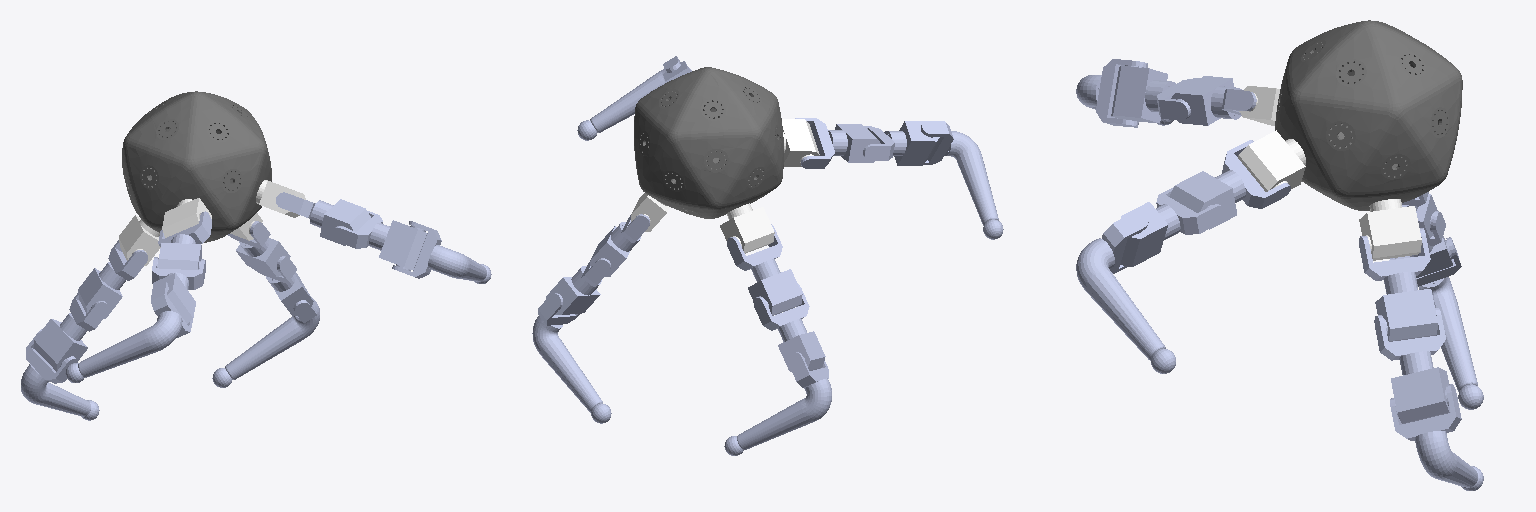
URDF robot description (mod_test):
<?xml version="1.0" encoding="utf-8"?>
<robot
  name="mod_test">
  <link
    name="base_link">
    <inertial>
      <origin
        xyz="-1.5226495220944E-06 1.5812928362389E-07 -5.05247252856584E-07"
        rpy="0 0 0" />
      <mass
        value="0.422806992949252" />
      <inertia
        ixx="0.00237499139253511"
        ixy="1.5717831530364E-08"
        ixz="1.49286265366169E-08"
        iyy="0.00237502154661776"
        iyz="-2.02154172619351E-08"
        izz="0.00237502595466009" />
    </inertial>
    <visual>
      <origin
        xyz="0 0 0"
        rpy="0 0 0" />
      <geometry>
        <mesh
          filename="package://meshes/base_link.STL" />
      </geometry>
      <material
        name="">
        <color
          rgba="0.498039215686275 0.498039215686275 0.498039215686275 1" />
      </material>
    </visual>
    <collision>
      <origin
        xyz="0 0 0"
        rpy="0 0 0" />
      <geometry>
        <mesh
          filename="package://meshes/base_link.STL" />
      </geometry>
    </collision>
  </link>
  <link
   name="160">
   <inertial>
      <origin
        xyz="0 0 0.028508"
        rpy="0 0 0" />
      <mass
        value="0.076173" />
      <inertia
        ixx="3.054E-05"
        ixy="0.000000"
        ixz="0.000000"
        iyy="2.1077E-05"
        iyz="0.000000"
        izz="2.1165E-05" />
    </inertial>
    <visual>
      <origin
        xyz="0 0 0"
        rpy="0 0 0" />
      <geometry>
        <mesh
          filename="package://meshes/1.STL" />
      </geometry>
      <material
        name="">
        <color
          rgba="1 1 1 1" />
      </material>
    </visual>
    <collision>
      <origin
        xyz="0 0 0"
        rpy="0 0 0" />
      <geometry>
        <mesh
          filename="package://meshes/1.STL" />
      </geometry>
    </collision>
  </link>
  <joint
    name="body_160"
    type="fixed">
    <origin
        xyz="0.051623 0.016773 -0.071046"
        rpy="3.141593 -0.652404 0.314159" />
    <parent
      link="base_link" />
    <child
      link="160" />
    <axis
      xyz="0 0 0" />
  </joint>
  <link
    name="161">
    <inertial>
      <origin
        xyz="0.060018 -1.4108E-06 1.4108E-06"
        rpy="0 0 0" />
    <mass
        value="0.10689" />
      <inertia
        ixx="3.2684e-05"
        ixy="-2.5662e-09"
        ixz="2.5662e-09"
        iyy="9.3595e-05"
        iyz="-2.1275e-13"
        izz="7.512e-05" />
    </inertial>
    <visual>
      <origin
        xyz="0 0 0"
        rpy="0 0 0" />
      <geometry>
        <mesh
          filename="package://meshes/module0.STL" />
      </geometry>
      <material
        name="">
        <color
          rgba="0.79216 0.81961 0.93333 1" />
      </material>
    </visual>
    <collision>
      <origin
        xyz="0 0 0"
        rpy="0 0 0" />
      <geometry>
        <mesh
          filename="package://meshes/module0.STL" />
      </geometry>
    </collision>
  </link>
  <joint
    name="160_161"
    type="revolute">
    <origin
      xyz="0 0 0.04"
      rpy="-1.558 -1.5708 -0.012835" />
    <parent
      link="160" />
    <child
      link="161" />
    <axis
      xyz="0 0 1" />
    <limit
      lower="-6.28"
      upper="6.28"
      effort="10"
      velocity="100" />
  </joint>
  <link
    name="162">
    <inertial>
      <origin
        xyz="0.060018 -1.4108E-06 1.4108E-06"
        rpy="0 0 0" />
    <mass
        value="0.10689" />
      <inertia
        ixx="3.2684e-05"
        ixy="-2.5662e-09"
        ixz="2.5662e-09"
        iyy="9.1229e-05"
        iyz="4.0975e-06"
        izz="7.7485e-05" />
    </inertial>
    <visual>
      <origin
        xyz="0 0 0"
        rpy="0 0 0" />
      <geometry>
        <mesh
          filename="package://meshes/module1.STL" />
      </geometry>
      <material
        name="">
        <color
          rgba="0.79216 0.81961 0.93333 1" />
      </material>
    </visual>
    <collision>
      <origin
        xyz="0 0 0"
        rpy="0 0 0" />
      <geometry>
        <mesh
          filename="package://meshes/module1.STL" />
      </geometry>
    </collision>
  </link>
  <joint
    name="161_162"
    type="revolute">
    <origin
      xyz="0.0816 0 0"
      rpy="0.000000 0 0" />
    <parent
      link="161" />
    <child
      link="162" />
    <axis
      xyz="0 0 1" />
    <limit
      lower="-6.28"
      upper="6.28"
      effort="10"
      velocity="100" />
  </joint>
  <link
    name="163">
    <inertial>
      <origin
        xyz="0.051733 -0.042281 -1.3878E-17"
        rpy="0 0 0" />
    <mass
        value="0.12059" />
      <inertia
        ixx="0.00025425"
        ixy="4.8319E-05"
        ixz="0"
        iyy="5.0194E-05"
        iyz="-3.3141E-21"
        izz="0.00027482" />
    </inertial>
    <visual>
      <origin
        xyz="0 0 0"
        rpy="0 0 0" />
      <geometry>
        <mesh
          filename="package://meshes/leg.STL" />
      </geometry>
      <material
        name="">
        <color
          rgba="0.79216 0.81961 0.93333 1" />
      </material>
    </visual>
    <collision>
      <origin
        xyz="0 0 0"
        rpy="0 0 0" />
      <geometry>
        <mesh
          filename="package://meshes/leg.STL" />
      </geometry>
    </collision>
  </link>
  <joint
    name="162_163"
    type="revolute">
    <origin
      xyz="0.0816 0 0"
      rpy="0.523599 0 0" />
    <parent
      link="162" />
    <child
      link="163" />
    <axis
      xyz="0 0 1" />
    <limit
      lower="-6.28"
      upper="6.28"
      effort="10"
      velocity="100" />
  </joint>
  <link
   name="100">
   <inertial>
      <origin
        xyz="0 0 0.028508"
        rpy="0 0 0" />
      <mass
        value="0.076173" />
      <inertia
        ixx="3.054E-05"
        ixy="-0.000000"
        ixz="-0.000000"
        iyy="2.1077E-05"
        iyz="-0.000000"
        izz="2.1165E-05" />
    </inertial>
    <visual>
      <origin
        xyz="0 0 0"
        rpy="0 0 0" />
      <geometry>
        <mesh
          filename="package://meshes/1.STL" />
      </geometry>
      <material
        name="">
        <color
          rgba="1 1 1 1" />
      </material>
    </visual>
    <collision>
      <origin
        xyz="0 0 0"
        rpy="0 0 0" />
      <geometry>
        <mesh
          filename="package://meshes/1.STL" />
      </geometry>
    </collision>
  </link>
  <joint
    name="body_100"
    type="fixed">
    <origin
        xyz="0.051620 -0.071049 -0.016769"
        rpy="-1.935587 1.017234 -2.827371" />
    <parent
      link="base_link" />
    <child
      link="100" />
    <axis
      xyz="0 0 0" />
  </joint>
  <link
    name="101">
    <inertial>
      <origin
        xyz="0.060018 -1.4108E-06 1.4108E-06"
        rpy="0 0 0" />
    <mass
        value="0.10689" />
      <inertia
        ixx="3.2684e-05"
        ixy="-2.5662e-09"
        ixz="2.5662e-09"
        iyy="9.1229e-05"
        iyz="4.0975e-06"
        izz="7.7485e-05" />
    </inertial>
    <visual>
      <origin
        xyz="0 0 0"
        rpy="0 0 0" />
      <geometry>
        <mesh
          filename="package://meshes/module1.STL" />
      </geometry>
      <material
        name="">
        <color
          rgba="0.79216 0.81961 0.93333 1" />
      </material>
    </visual>
    <collision>
      <origin
        xyz="0 0 0"
        rpy="0 0 0" />
      <geometry>
        <mesh
          filename="package://meshes/module1.STL" />
      </geometry>
    </collision>
  </link>
  <joint
    name="100_101"
    type="revolute">
    <origin
      xyz="0 0 0.04"
      rpy="-1.558 -1.5708 -0.012835" />
    <parent
      link="100" />
    <child
      link="101" />
    <axis
      xyz="0 0 1" />
    <limit
      lower="-6.28"
      upper="6.28"
      effort="10"
      velocity="100" />
  </joint>
  <link
    name="102">
    <inertial>
      <origin
        xyz="0.060018 -1.4108E-06 1.4108E-06"
        rpy="0 0 0" />
    <mass
        value="0.10689" />
      <inertia
        ixx="3.2684e-05"
        ixy="-2.5662e-09"
        ixz="2.5662e-09"
        iyy="8.6498e-05"
        iyz="4.0975e-06"
        izz="8.2217e-05" />
    </inertial>
    <visual>
      <origin
        xyz="0 0 0"
        rpy="0 0 0" />
      <geometry>
        <mesh
          filename="package://meshes/module8.STL" />
      </geometry>
      <material
        name="">
        <color
          rgba="0.79216 0.81961 0.93333 1" />
      </material>
    </visual>
    <collision>
      <origin
        xyz="0 0 0"
        rpy="0 0 0" />
      <geometry>
        <mesh
          filename="package://meshes/module8.STL" />
      </geometry>
    </collision>
  </link>
  <joint
    name="101_102"
    type="revolute">
    <origin
      xyz="0.0816 0 0"
      rpy="0.523599 0 0" />
    <parent
      link="101" />
    <child
      link="102" />
    <axis
      xyz="0 0 1" />
    <limit
      lower="-6.28"
      upper="6.28"
      effort="10"
      velocity="100" />
  </joint>
  <link
    name="103">
    <inertial>
      <origin
        xyz="0.051733 -0.042281 -1.3878E-17"
        rpy="0 0 0" />
    <mass
        value="0.12059" />
      <inertia
        ixx="0.00025425"
        ixy="4.8319E-05"
        ixz="0"
        iyy="5.0194E-05"
        iyz="-3.3141E-21"
        izz="0.00027482" />
    </inertial>
    <visual>
      <origin
        xyz="0 0 0"
        rpy="0 0 0" />
      <geometry>
        <mesh
          filename="package://meshes/leg.STL" />
      </geometry>
      <material
        name="">
        <color
          rgba="0.79216 0.81961 0.93333 1" />
      </material>
    </visual>
    <collision>
      <origin
        xyz="0 0 0"
        rpy="0 0 0" />
      <geometry>
        <mesh
          filename="package://meshes/leg.STL" />
      </geometry>
    </collision>
  </link>
  <joint
    name="102_103"
    type="revolute">
    <origin
      xyz="0.0816 0 0"
      rpy="4.188790 0 0" />
    <parent
      link="102" />
    <child
      link="103" />
    <axis
      xyz="0 0 1" />
    <limit
      lower="-6.28"
      upper="6.28"
      effort="10"
      velocity="100" />
  </joint>
  <link
   name="140">
   <inertial>
      <origin
        xyz="0 0 0.028508"
        rpy="0 0 0" />
      <mass
        value="0.076173" />
      <inertia
        ixx="3.054E-05"
        ixy="-0.000000"
        ixz="0.000000"
        iyy="2.1077E-05"
        iyz="-0.000000"
        izz="2.1165E-05" />
    </inertial>
    <visual>
      <origin
        xyz="0 0 0"
        rpy="0 0 0" />
      <geometry>
        <mesh
          filename="package://meshes/1.STL" />
      </geometry>
      <material
        name="">
        <color
          rgba="1 1 1 1" />
      </material>
    </visual>
    <collision>
      <origin
        xyz="0 0 0"
        rpy="0 0 0" />
      <geometry>
        <mesh
          filename="package://meshes/1.STL" />
      </geometry>
    </collision>
  </link>
  <joint
    name="body_140"
    type="fixed">
    <origin
        xyz="-0.051620 -0.071049 -0.016769"
        rpy="1.935587 1.017234 -0.314221" />
    <parent
      link="base_link" />
    <child
      link="140" />
    <axis
      xyz="0 0 0" />
  </joint>
  <link
    name="141">
    <inertial>
      <origin
        xyz="0.060018 -1.4108E-06 1.4108E-06"
        rpy="0 0 0" />
    <mass
        value="0.10689" />
      <inertia
        ixx="3.2684e-05"
        ixy="-2.5662e-09"
        ixz="2.5662e-09"
        iyy="9.1229e-05"
        iyz="-4.0975e-06"
        izz="7.7485e-05" />
    </inertial>
    <visual>
      <origin
        xyz="0 0 0"
        rpy="0 0 0" />
      <geometry>
        <mesh
          filename="package://meshes/module11.STL" />
      </geometry>
      <material
        name="">
        <color
          rgba="0.79216 0.81961 0.93333 1" />
      </material>
    </visual>
    <collision>
      <origin
        xyz="0 0 0"
        rpy="0 0 0" />
      <geometry>
        <mesh
          filename="package://meshes/module11.STL" />
      </geometry>
    </collision>
  </link>
  <joint
    name="140_141"
    type="revolute">
    <origin
      xyz="0 0 0.04"
      rpy="-1.558 -1.5708 -0.012835" />
    <parent
      link="140" />
    <child
      link="141" />
    <axis
      xyz="0 0 1" />
    <limit
      lower="-6.28"
      upper="6.28"
      effort="10"
      velocity="100" />
  </joint>
  <link
    name="142">
    <inertial>
      <origin
        xyz="0.060018 -1.4108E-06 1.4108E-06"
        rpy="0 0 0" />
    <mass
        value="0.10689" />
      <inertia
        ixx="3.2241e-05"
        ixy="3.5298e-07"
        ixz="2.0781e-07"
        iyy="8.5969e-05"
        iyz="-3.9192e-06"
        izz="8.1482e-05" />
    </inertial>
    <visual>
      <origin
        xyz="0 0 0"
        rpy="0 0 0" />
      <geometry>
        <mesh
          filename="package://meshes/module4.STL" />
      </geometry>
      <material
        name="">
        <color
          rgba="0.79216 0.81961 0.93333 1" />
      </material>
    </visual>
    <collision>
      <origin
        xyz="0 0 0"
        rpy="0 0 0" />
      <geometry>
        <mesh
          filename="package://meshes/module4.STL" />
      </geometry>
    </collision>
  </link>
  <joint
    name="141_142"
    type="revolute">
    <origin
      xyz="0.0816 0 0"
      rpy="5.759587 0 0" />
    <parent
      link="141" />
    <child
      link="142" />
    <axis
      xyz="0 0 1" />
    <limit
      lower="-6.28"
      upper="6.28"
      effort="10"
      velocity="100" />
  </joint>
  <link
    name="143">
    <inertial>
      <origin
        xyz="0.051733 -0.042281 -1.3878E-17"
        rpy="0 0 0" />
    <mass
        value="0.12059" />
      <inertia
        ixx="0.00025425"
        ixy="4.8319E-05"
        ixz="0"
        iyy="5.0194E-05"
        iyz="-3.3141E-21"
        izz="0.00027482" />
    </inertial>
    <visual>
      <origin
        xyz="0 0 0"
        rpy="0 0 0" />
      <geometry>
        <mesh
          filename="package://meshes/leg.STL" />
      </geometry>
      <material
        name="">
        <color
          rgba="0.79216 0.81961 0.93333 1" />
      </material>
    </visual>
    <collision>
      <origin
        xyz="0 0 0"
        rpy="0 0 0" />
      <geometry>
        <mesh
          filename="package://meshes/leg.STL" />
      </geometry>
    </collision>
  </link>
  <joint
    name="142_143"
    type="revolute">
    <origin
      xyz="0.0816 0 0"
      rpy="2.094395 0 0" />
    <parent
      link="142" />
    <child
      link="143" />
    <axis
      xyz="0 0 1" />
    <limit
      lower="-6.28"
      upper="6.28"
      effort="10"
      velocity="100" />
  </joint>
  <link
   name="180">
   <inertial>
      <origin
        xyz="0 0 0.028508"
        rpy="0 0 0" />
      <mass
        value="0.076173" />
      <inertia
        ixx="3.054E-05"
        ixy="0.000000"
        ixz="0.000000"
        iyy="2.1077E-05"
        iyz="0.000000"
        izz="2.1165E-05" />
    </inertial>
    <visual>
      <origin
        xyz="0 0 0"
        rpy="0 0 0" />
      <geometry>
        <mesh
          filename="package://meshes/1.STL" />
      </geometry>
      <material
        name="">
        <color
          rgba="1 1 1 1" />
      </material>
    </visual>
    <collision>
      <origin
        xyz="0 0 0"
        rpy="0 0 0" />
      <geometry>
        <mesh
          filename="package://meshes/1.STL" />
      </geometry>
    </collision>
  </link>
  <joint
    name="body_180"
    type="fixed">
    <origin
        xyz="-0.051623 0.016773 -0.071046"
        rpy="3.141593 -0.652404 2.827433" />
    <parent
      link="base_link" />
    <child
      link="180" />
    <axis
      xyz="0 0 0" />
  </joint>
  <link
    name="181">
    <inertial>
      <origin
        xyz="0.060018 -1.4108E-06 1.4108E-06"
        rpy="0 0 0" />
    <mass
        value="0.10689" />
      <inertia
        ixx="3.2684e-05"
        ixy="-2.5662e-09"
        ixz="2.5662e-09"
        iyy="9.3595e-05"
        iyz="-2.1275e-13"
        izz="7.512e-05" />
    </inertial>
    <visual>
      <origin
        xyz="0 0 0"
        rpy="0 0 0" />
      <geometry>
        <mesh
          filename="package://meshes/module0.STL" />
      </geometry>
      <material
        name="">
        <color
          rgba="0.79216 0.81961 0.93333 1" />
      </material>
    </visual>
    <collision>
      <origin
        xyz="0 0 0"
        rpy="0 0 0" />
      <geometry>
        <mesh
          filename="package://meshes/module0.STL" />
      </geometry>
    </collision>
  </link>
  <joint
    name="180_181"
    type="revolute">
    <origin
      xyz="0 0 0.04"
      rpy="-1.558 -1.5708 -0.012835" />
    <parent
      link="180" />
    <child
      link="181" />
    <axis
      xyz="0 0 1" />
    <limit
      lower="-6.28"
      upper="6.28"
      effort="10"
      velocity="100" />
  </joint>
  <link
    name="182">
    <inertial>
      <origin
        xyz="0.060018 -1.4108E-06 1.4108E-06"
        rpy="0 0 0" />
    <mass
        value="0.10689" />
      <inertia
        ixx="3.2684e-05"
        ixy="-2.5662e-09"
        ixz="2.5662e-09"
        iyy="9.1229e-05"
        iyz="-4.0975e-06"
        izz="7.7485e-05" />
    </inertial>
    <visual>
      <origin
        xyz="0 0 0"
        rpy="0 0 0" />
      <geometry>
        <mesh
          filename="package://meshes/module11.STL" />
      </geometry>
      <material
        name="">
        <color
          rgba="0.79216 0.81961 0.93333 1" />
      </material>
    </visual>
    <collision>
      <origin
        xyz="0 0 0"
        rpy="0 0 0" />
      <geometry>
        <mesh
          filename="package://meshes/module11.STL" />
      </geometry>
    </collision>
  </link>
  <joint
    name="181_182"
    type="revolute">
    <origin
      xyz="0.0816 0 0"
      rpy="0.000000 0 0" />
    <parent
      link="181" />
    <child
      link="182" />
    <axis
      xyz="0 0 1" />
    <limit
      lower="-6.28"
      upper="6.28"
      effort="10"
      velocity="100" />
  </joint>
  <link
    name="183">
    <inertial>
      <origin
        xyz="0.051733 -0.042281 -1.3878E-17"
        rpy="0 0 0" />
    <mass
        value="0.12059" />
      <inertia
        ixx="0.00025425"
        ixy="4.8319E-05"
        ixz="0"
        iyy="5.0194E-05"
        iyz="-3.3141E-21"
        izz="0.00027482" />
    </inertial>
    <visual>
      <origin
        xyz="0 0 0"
        rpy="0 0 0" />
      <geometry>
        <mesh
          filename="package://meshes/leg.STL" />
      </geometry>
      <material
        name="">
        <color
          rgba="0.79216 0.81961 0.93333 1" />
      </material>
    </visual>
    <collision>
      <origin
        xyz="0 0 0"
        rpy="0 0 0" />
      <geometry>
        <mesh
          filename="package://meshes/leg.STL" />
      </geometry>
    </collision>
  </link>
  <joint
    name="182_183"
    type="revolute">
    <origin
      xyz="0.0816 0 0"
      rpy="5.759587 0 0" />
    <parent
      link="182" />
    <child
      link="183" />
    <axis
      xyz="0 0 1" />
    <limit
      lower="-6.28"
      upper="6.28"
      effort="10"
      velocity="100" />
  </joint>
  <link
    name = "ball_1">
    <inertial>
    <origin
        xyz="0 0 0"
        rpy="0 0 0" />
    <mass
        value="0" />
      <inertia
        ixx="0"
        ixy="0"
        ixz="0"
        iyy="0"
        iyz="0"
        izz="0" />
    </inertial>    <visual>
      <origin
        xyz="0 0 0"
        rpy="0 0 0" />
     <geometry>
        <sphere radius = "0.01"/>
      </geometry>
      <material
        name="green">
        <color
          rgba="0.22 1 0.4 1" />
      </material>
    </visual>
  </link>
  <joint
  name="163_ball1"
  type="fixed">
    <origin
      xyz="0.0612 -0.13431 0"
      rpy="0 0 0" />
    <parent
      link="163" />
    <child
      link="ball_1" />
    <axis
      xyz="0 0 0" />
  </joint>
  <link
    name = "ball_2">
    <inertial>
    <origin
        xyz="0 0 0"
        rpy="0 0 0" />
    <mass
        value="0" />
      <inertia
        ixx="0"
        ixy="0"
        ixz="0"
        iyy="0"
        iyz="0"
        izz="0" />
    </inertial>    <visual>
      <origin
        xyz="0 0 0"
        rpy="0 0 0" />
      <geometry>
        <sphere radius = "0.01"/>
      </geometry>
      <material
        name="blue">
        <color
          rgba="0.16 0.52 0.8 1" />
      </material>
    </visual>
  </link>
  <joint
  name="103_ball2"
  type="fixed">
    <origin
      xyz="0.0612 -0.13431 0"
      rpy="0 0 0" />
    <parent
      link="103" />
    <child
      link="ball_2" />
    <axis
      xyz="0 0 0" />
  </joint>
  <link
    name = "ball_3">
    <inertial>
    <origin
        xyz="0 0 0"
        rpy="0 0 0" />
    <mass
        value="0" />
      <inertia
        ixx="0"
        ixy="0"
        ixz="0"
        iyy="0"
        iyz="0"
        izz="0" />
    </inertial>    <visual>
      <origin
        xyz="0 0 0"
        rpy="0 0 0" />
     <geometry>
        <sphere radius = "0.01"/>
      </geometry>
      <material
        name="blue">
        <color
          rgba="0.16 0.52 0.8 1" />
      </material>
    </visual>
  </link>
  <joint
  name="143_ball3"
  type="fixed">
    <origin
      xyz="0.0612 -0.13431 0"
      rpy="0 0 0" />
    <parent
      link="143" />
    <child
      link="ball_3" />
    <axis
      xyz="0 0 0" />
  </joint>
  <link
    name = "ball_4">
    <inertial>
    <origin
        xyz="0 0 0"
        rpy="0 0 0" />
    <mass
        value="0" />
      <inertia
        ixx="0"
        ixy="0"
        ixz="0"
        iyy="0"
        iyz="0"
        izz="0" />
    </inertial>    <visual>
      <origin
        xyz="0 0 0"
        rpy="0 0 0" />
      <geometry>
        <sphere radius = "0.01"/>
      </geometry>
      <material
        name="yellow">
        <color
          rgba="1 1 0 1" />
      </material>
    </visual>
  </link>
  <joint
  name="183_ball4"
  type="fixed">
    <origin
      xyz="0.0612 -0.13431 0"
      rpy="0 0 0" />
    <parent
      link="183" />
    <child
      link="ball_4" />
    <axis
      xyz="0 0 0" />
  </joint>
</robot>

--- Facts derived from the render (not from the file) ---
Views: 3 orthographic renders of the robot side by side, from view 1: azimuth 30°, elevation 25°; view 2: azimuth 150°, elevation 25°; view 3: azimuth 270°, elevation 25°.
Robot: mod_test — 21 links, 20 joints (12 revolute, 8 fixed); root link base_link; default pose: all joints at 0.
Visible links, largest first — view 1: base_link, 143, 163, 102, 183, 182, 181, 103, 101, 141, 142, 161 (+4 smaller); view 2: base_link, 183, 163, 143, 181, 182, 141, 142, 103, 162, 180, 161 (+2 smaller); view 3: base_link, 103, 161, 162, 101, 163, 183, 142, 102, 160, 100, 141 (+4 smaller).
Link boxes in pixels (x1,y1,x2,y2): base_link: (122,91,271,242); 143: (65,281,192,382); 163: (212,297,319,387); 102: (332,211,427,270); 183: (21,329,99,420); 182: (34,293,108,371); 181: (78,240,147,318); 103: (392,221,491,283); 101: (276,192,370,245); 141: (157,211,211,269); 142: (151,257,205,323); 161: (228,221,290,276); base_link: (634,67,783,218); 183: (724,352,831,455); 163: (532,293,611,423); 143: (921,121,1003,239); 181: (727,224,802,315); 182: (753,284,825,371); 141: (795,118,880,168); 142: (863,121,940,165); 103: (577,56,691,140); 162: (546,258,610,314); 180: (720,203,774,253); 161: (590,214,649,276); base_link: (1275,20,1462,210); 103: (1076,212,1175,373); 161: (1359,228,1437,341); 162: (1374,307,1450,423); 101: (1169,140,1290,229); 163: (1390,384,1483,490); 183: (1390,237,1483,409); 142: (1111,65,1199,123); 102: (1120,187,1225,266); 160: (1359,199,1421,260); 100: (1238,130,1305,191); 141: (1171,76,1256,125).
Size in the robot's own frame: 0.6072 by 0.4036 by 0.4667 metres.
17 mesh visuals loaded from 8 distinct referenced files (8 binary STL).
